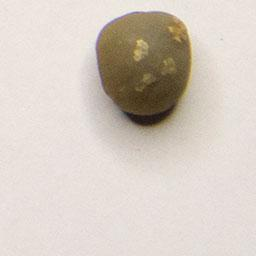peaberry: (92, 8, 196, 120)
